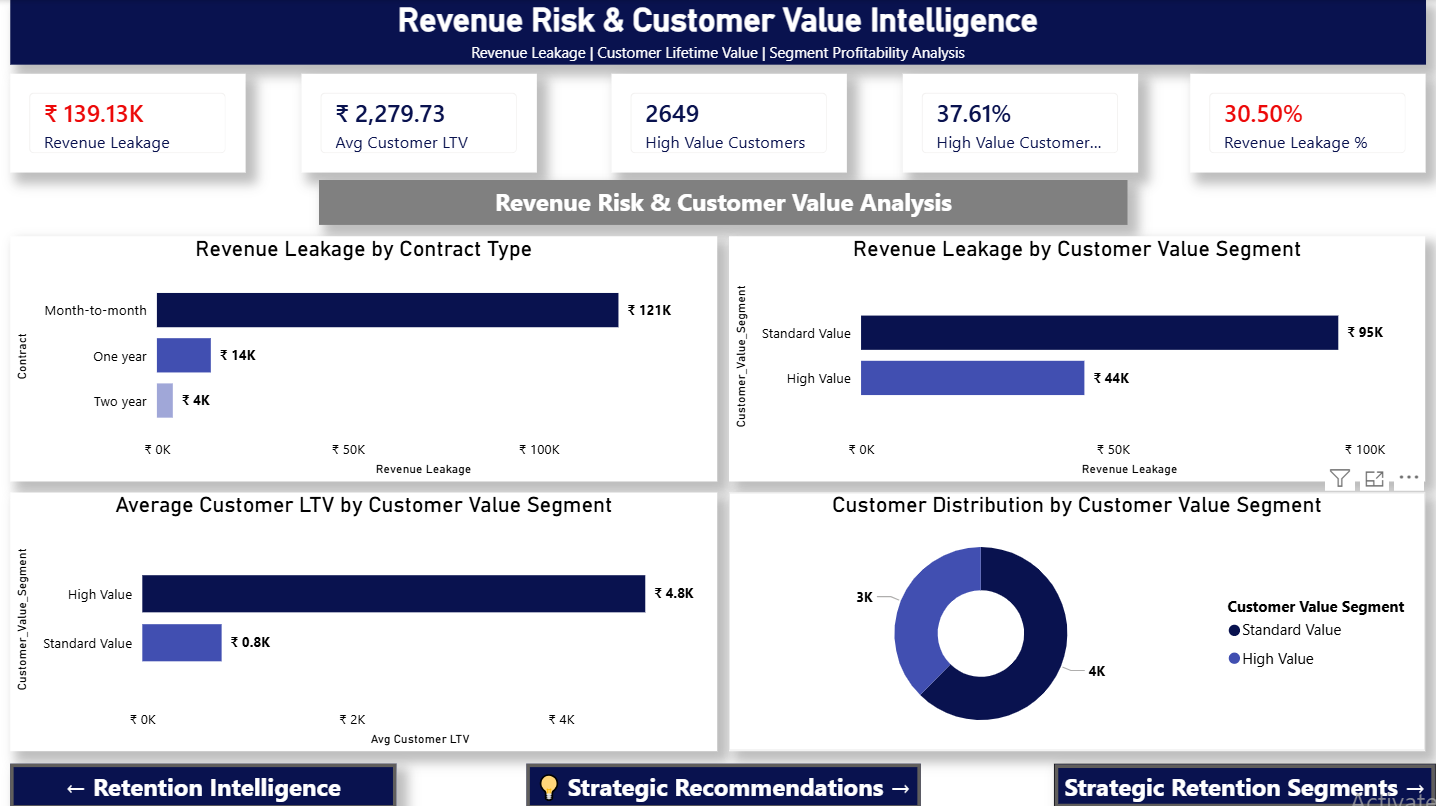

Layout of this report page (visuals, bound fields, positions):
{"tool":"powerbi","page":{"name":"Revenue & Customer Value","canvas":[1280,720],"ordinal":2},"visuals":[{"type":"textbox","title":"Revenue Risk & Customer Value Intelligence","box":[9.7,0,1260.7,57.9],"z":0},{"type":"cardVisual","fields":{"Data":["Measure.Revenue Leakage"]},"box":[9.7,65.1,209.9,88.1],"z":1000},{"type":"cardVisual","fields":{"Data":["Measure.Avg Customer LTV"]},"box":[269,65.1,209.9,88.1],"z":2000},{"type":"cardVisual","fields":{"Data":["Measure.High Value Customers"]},"box":[545.3,65.1,209.9,88.1],"z":3000},{"type":"cardVisual","fields":{"Data":["Measure.High Value Customer %"]},"box":[804.7,65.1,209.9,88.1],"z":4000},{"type":"textbox","title":"Retention Risk & Customer Segmentation Analysis","box":[284.7,160.5,720.2,39.8],"z":5000},{"type":"clusteredBarChart","title":"Revenue Leakage by Contract Type","fields":{"Category":["final_telco_customer_analytics.Contract"],"Y":["Measure.Revenue Leakage"]},"box":[9.7,209.9,629.8,218.4],"z":6000},{"type":"clusteredBarChart","title":"Revenue Leakage by Customer Value Segment","fields":{"Y":["Measure.Revenue Leakage"],"Category":["final_telco_customer_analytics.Customer_Value_Segment"]},"box":[650.3,209.9,620.1,218.4],"z":7000},{"type":"clusteredBarChart","title":"Average Customer LTV by Customer Value Segment","fields":{"Category":["final_telco_customer_analytics.Customer_Value_Segment"],"Y":["Measure.Avg Customer LTV"]},"box":[9.7,439.1,629.8,230.4],"z":8000},{"type":"donutChart","title":"Customer Distribution by Customer Value Segment","fields":{"Category":["final_telco_customer_analytics.Customer_Value_Segment"],"Y":["Measure.Total Customers"]},"box":[650,439,620,230],"z":9000},{"type":"actionButton","box":[469.3,680.4,351.1,39.8],"z":10000},{"type":"actionButton","box":[929.5,680.2,340.6,40.1],"z":11000},{"type":"actionButton","box":[9.7,680.2,343.8,39.8],"z":12000},{"type":"cardVisual","fields":{"Data":["Measure.Revenue Leakage %"]},"box":[1060.5,65.1,209.9,88.1],"z":13000}]}

Visuals, with their boxes in screenshot pixels (x1, y1, x2, y2), scaled from the page's 1280x720 canvas onto the 1436x806 screenshot:
"Revenue Risk & Customer Value Intelligence" textbox: locate(11, 0, 1425, 65)
cardVisual - Measure.Revenue Leakage: locate(11, 73, 246, 171)
cardVisual - Measure.Avg Customer LTV: locate(302, 73, 537, 171)
cardVisual - Measure.High Value Customers: locate(612, 73, 847, 171)
cardVisual - Measure.High Value Customer %: locate(903, 73, 1138, 171)
"Retention Risk & Customer Segmentation Analysis" textbox: locate(319, 180, 1127, 224)
"Revenue Leakage by Contract Type" clusteredBarChart: locate(11, 235, 717, 479)
"Revenue Leakage by Customer Value Segment" clusteredBarChart: locate(730, 235, 1425, 479)
"Average Customer LTV by Customer Value Segment" clusteredBarChart: locate(11, 492, 717, 749)
"Customer Distribution by Customer Value Segment" donutChart: locate(729, 491, 1425, 749)
actionButton: locate(526, 762, 920, 805)
actionButton: locate(1043, 761, 1425, 805)
actionButton: locate(11, 761, 397, 805)
cardVisual - Measure.Revenue Leakage %: locate(1190, 73, 1425, 171)
